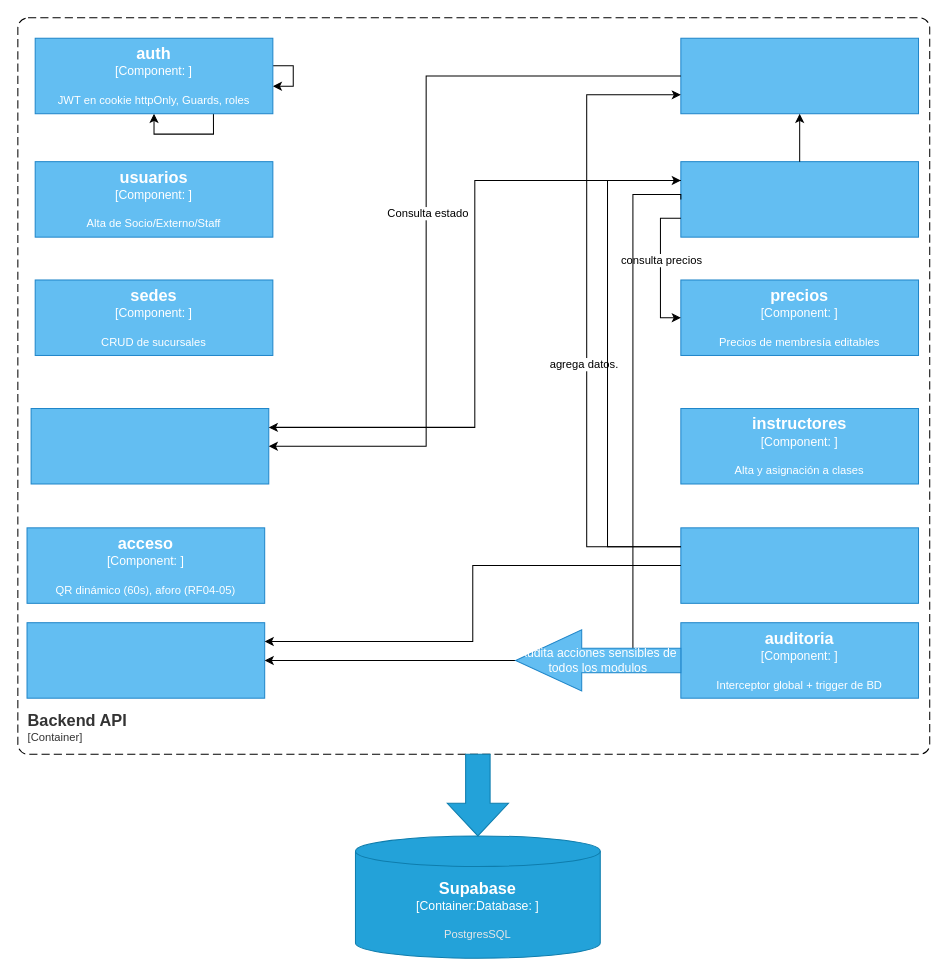
This 948x976 diagram has some shape labels left out. Here are the shapes that lost their labels. From the top down, the centre of each, then its label:
At pixel 799 75: "canchas [Component: ] Reservas, pricing - Strategy, locks - Repository (RF09-12)".
At pixel 799 199: "pagos [Component: ] Pasarela mock, comprobantes PDF (RF13-14)".
At pixel 149 445: "membresias [Component: ] Planes, estados, renovación".
At pixel 799 565: "admin [Component: ] Dashboards y reportes agregados".
At pixel 145 660: "clases [Component: ] Reservas, lista de espera - Observer (RF06-08)".
